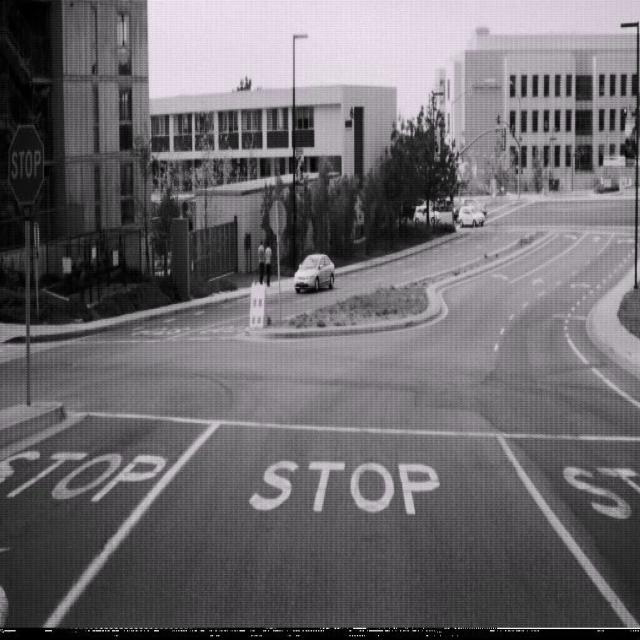stop: (7, 123, 45, 207)
